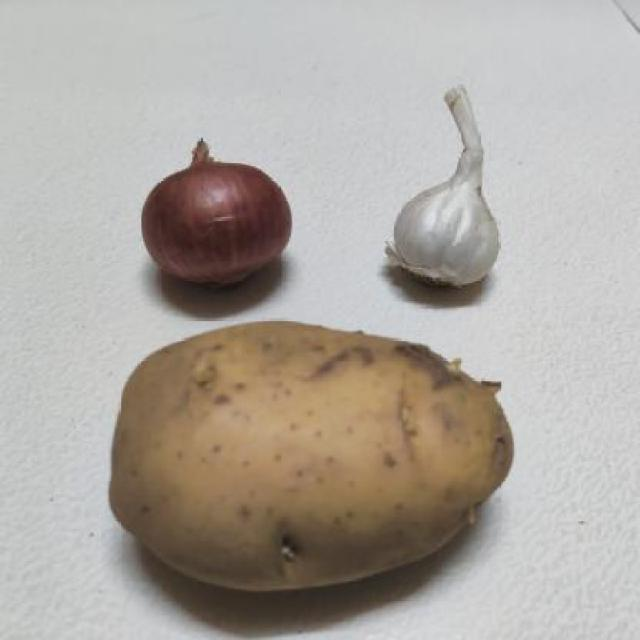Garlic: (380, 73, 531, 290)
Onion: (109, 132, 337, 303)
Potato: (100, 315, 525, 603)
